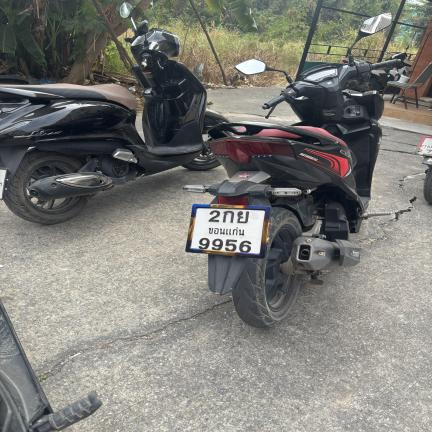2: (208, 209, 221, 222)
4: (224, 239, 238, 252)
6: (238, 240, 252, 253)
9: (197, 237, 210, 250), (211, 237, 223, 250)
A01: (222, 210, 235, 223)
A34: (236, 210, 250, 224)
KKN: (206, 225, 247, 236)
